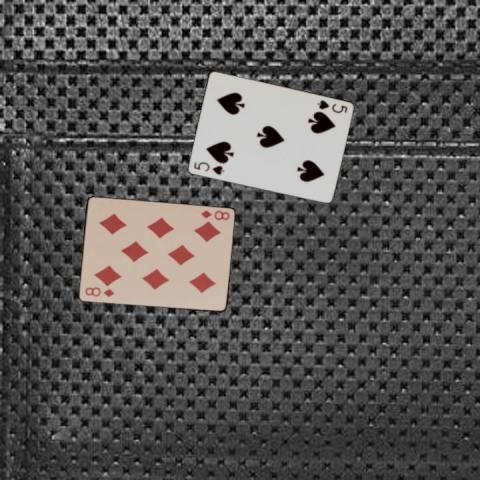5s: (314, 97, 349, 115), (191, 159, 226, 176)
8d: (82, 284, 115, 299), (198, 207, 231, 222)
